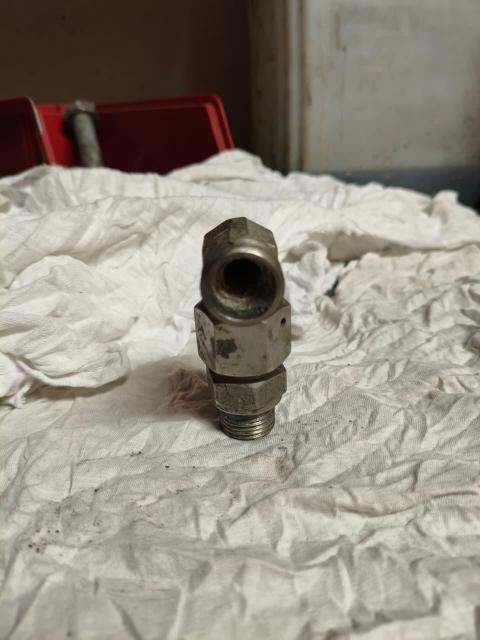Metal: (193, 223, 297, 437)
